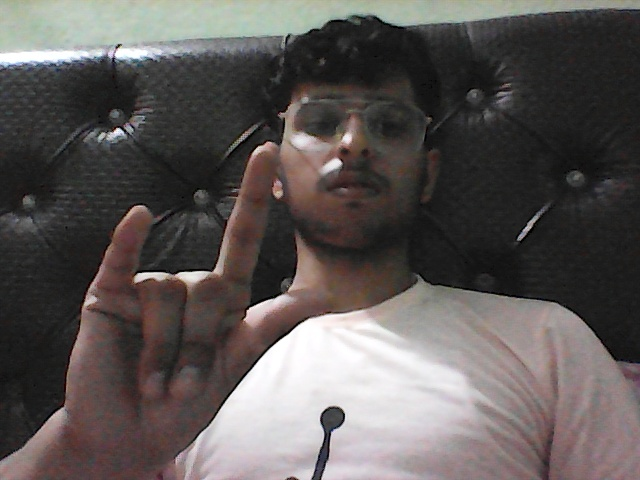iloveyou: (52, 128, 353, 480)
